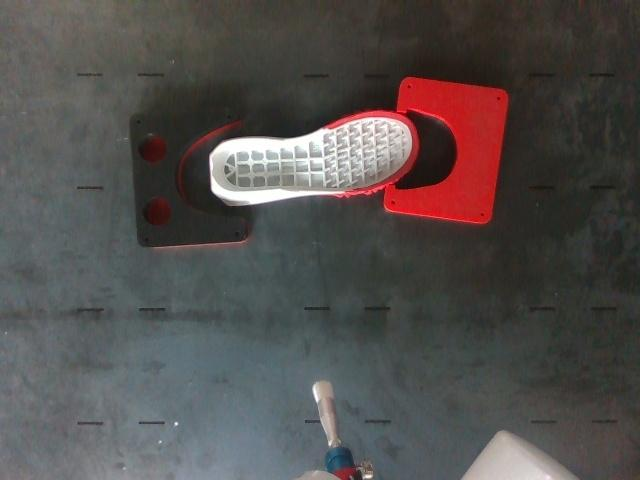shoes: (212, 111, 418, 193)
